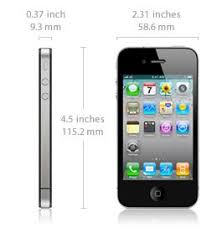iphone: (111, 45, 200, 208)
iphone4: (112, 45, 201, 208)
